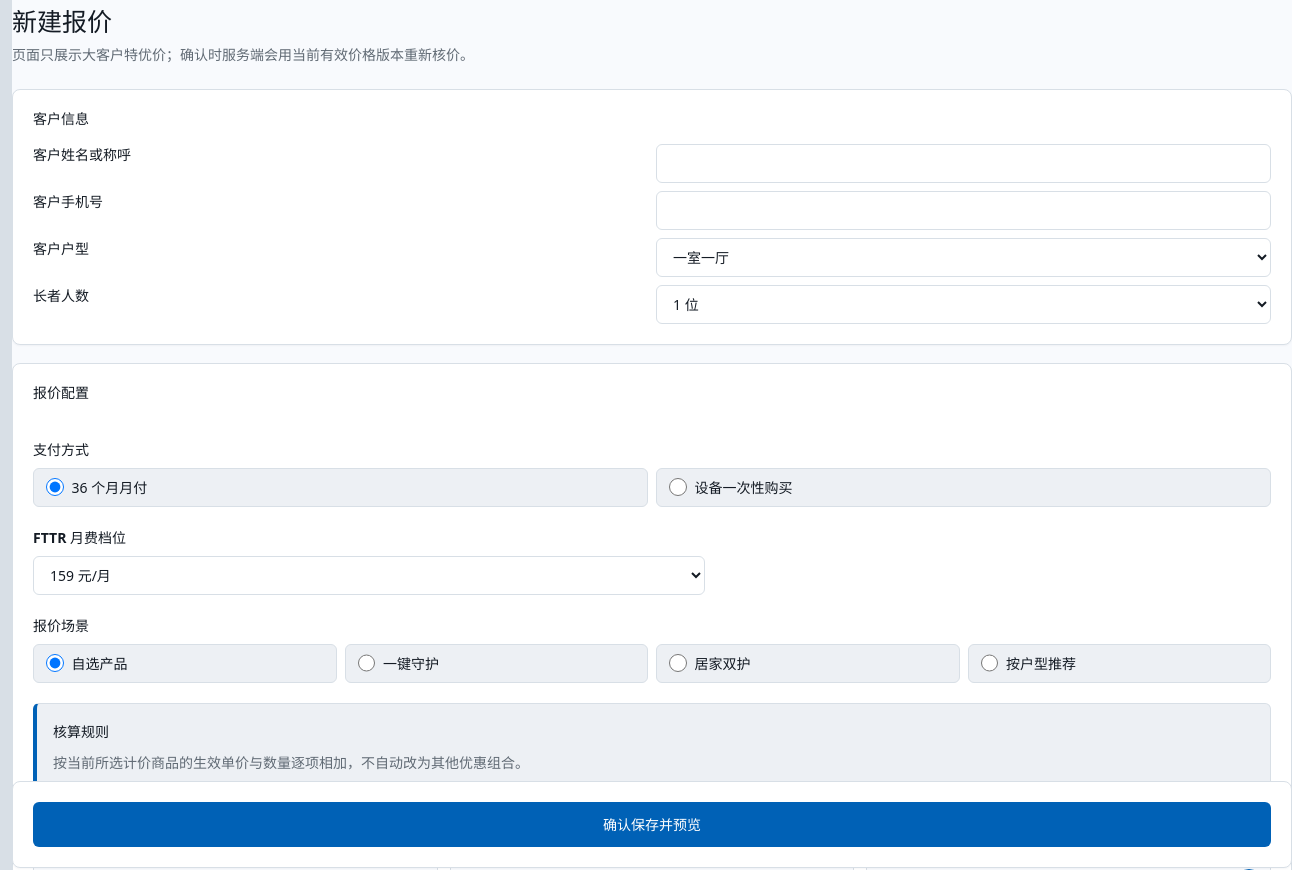
Scenario: 新建报价套餐说明与场景切换 › 显式选择自选产品时清空，手动改数量时保留当前配置
The image size is (1292, 870).
Click the radio button labelled "一键守护" at (366, 663), box [358,654,375,672]
(page scrolled)
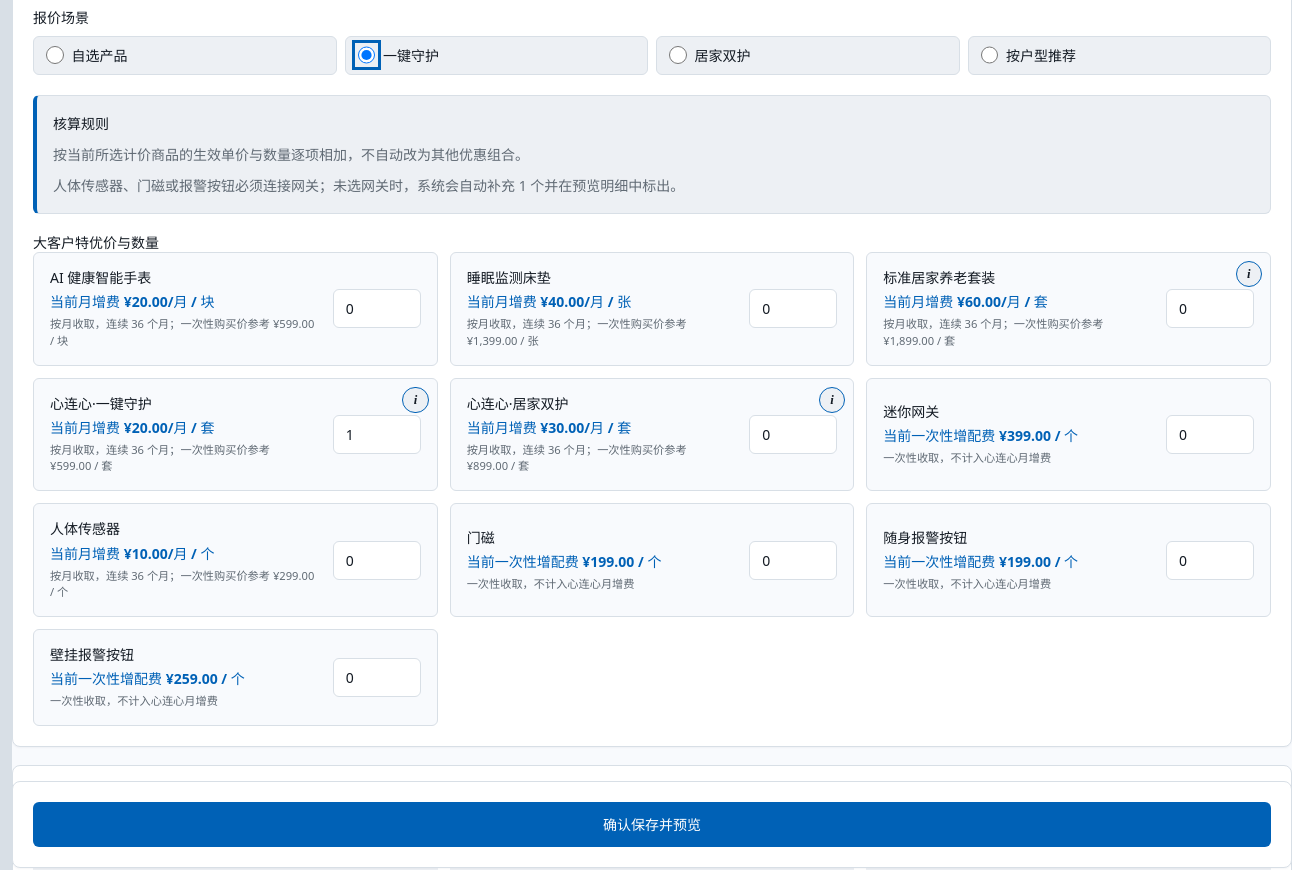
Clear the number field named "心连心·一键守护数量" next to "按月收取，连续 36 个月；一次性购买价参考 ¥599.00 / 套" at (377, 435), box [333,415,421,454]
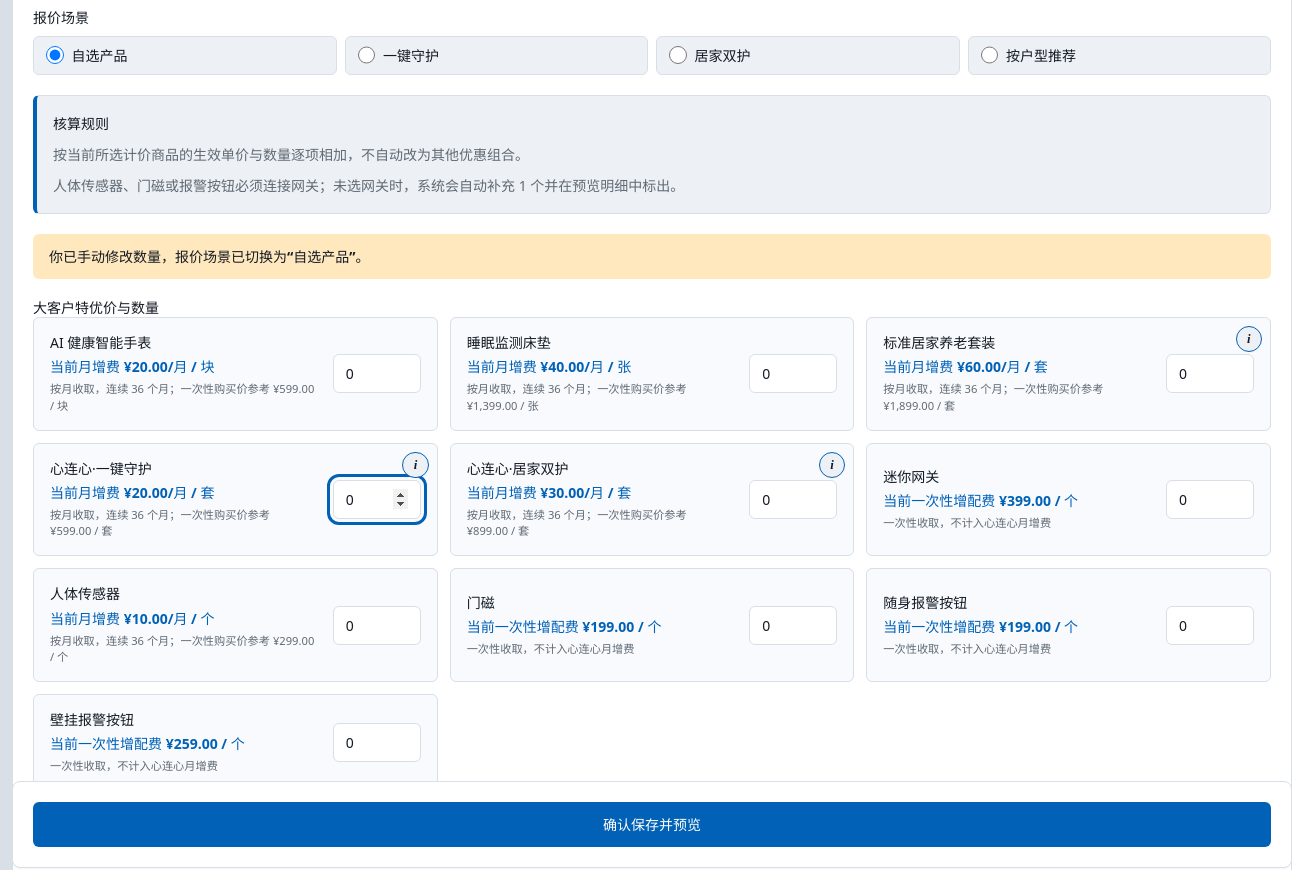
Type "2" into the number field named "心连心·一键守护数量" next to "按月收取，连续 36 个月；一次性购买价参考 ¥599.00 / 套" at (377, 500), box [333,480,421,519]
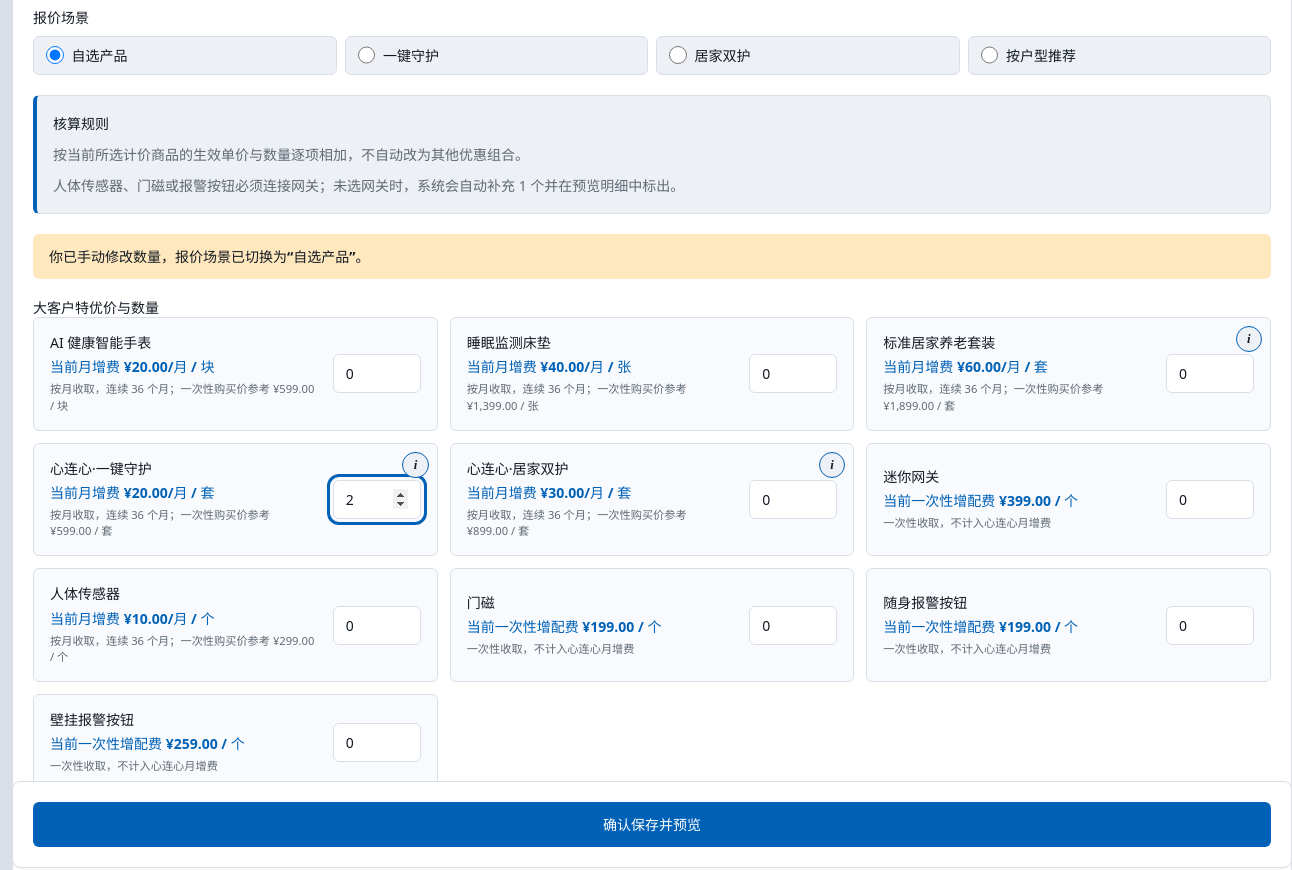
Expected: the radio button labelled "自选产品" is checked
Click the radio button labelled "自选产品" at (55, 55), box [46,46,64,64]
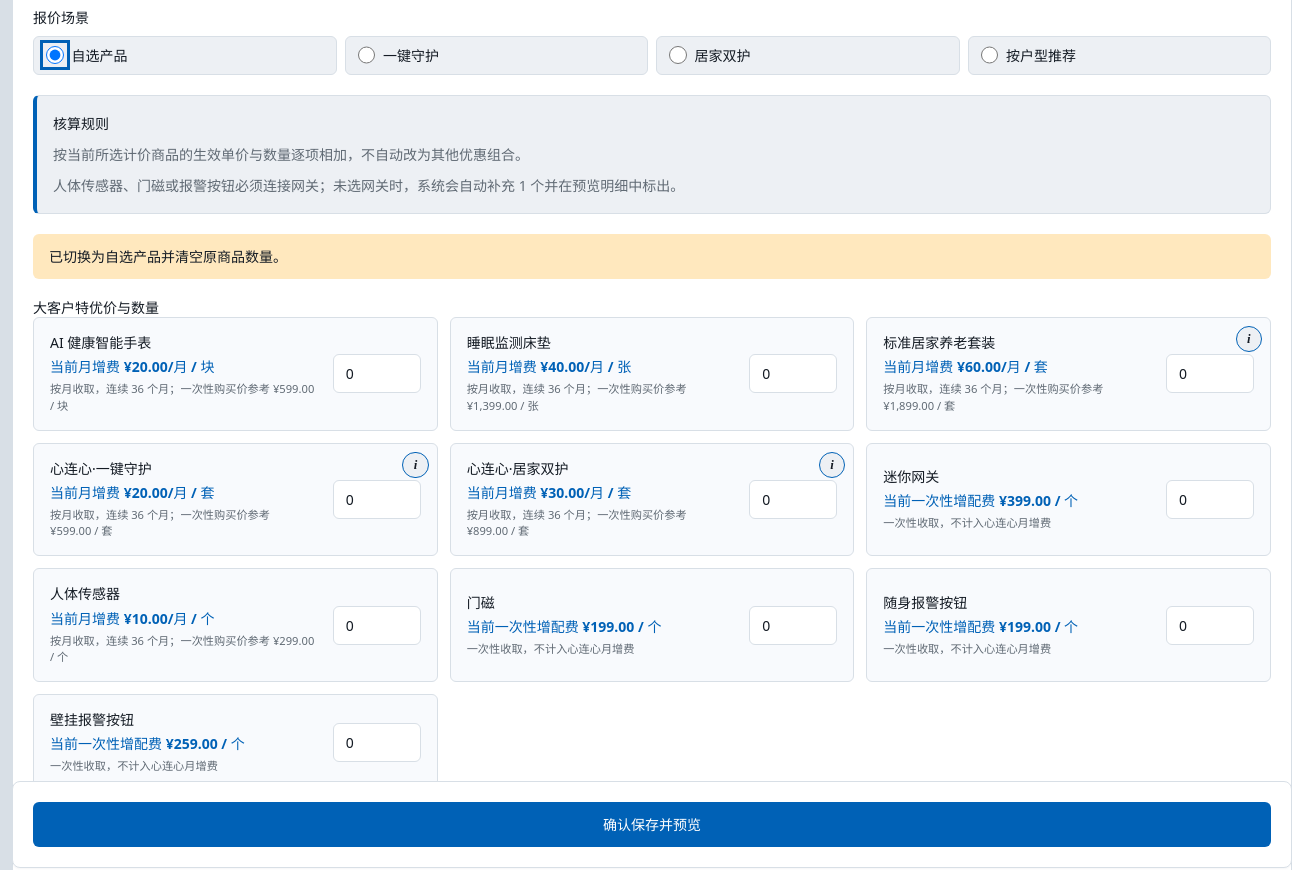
Expected: the number field named "心连心·一键守护数量" next to "按月收取，连续 36 个月；一次性购买价参考 ¥599.00 / 套" holds "0", [333,480,421,519]
Expected: the text "已切换为自选产品并清空原商品数量。" is shown, [33,234,1271,279]
